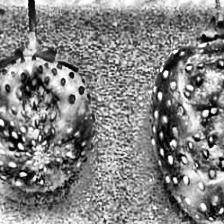Anthracnose Fruit Rot: (164, 37, 224, 188), (0, 63, 75, 172)
